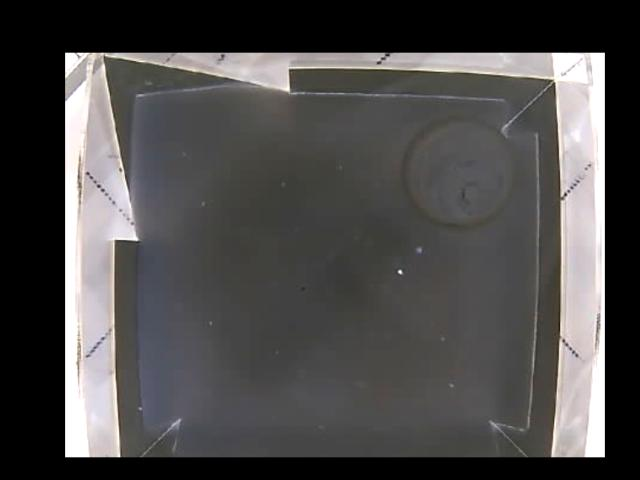Bottle: (397, 119, 514, 237)
